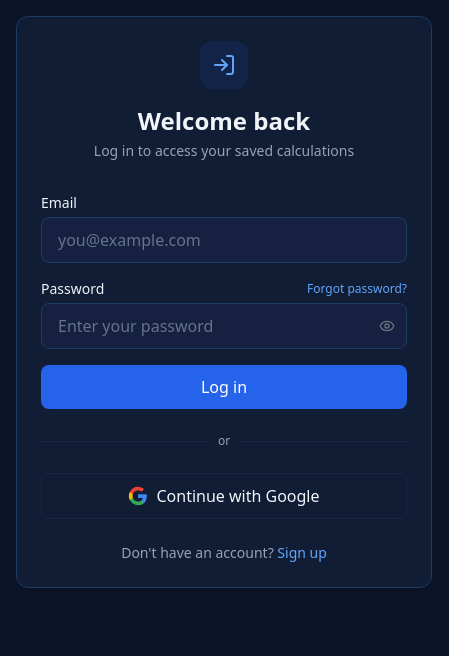
Test case: LoginPage - submission state machine › falls back to the generic login-failed message when the rejection is not an Error
This screenshot has width=449, height=656.
In the field labelled "Email": [224, 240] box x1=41 y1=217 x2=407 y2=263, type "maria@example.com"
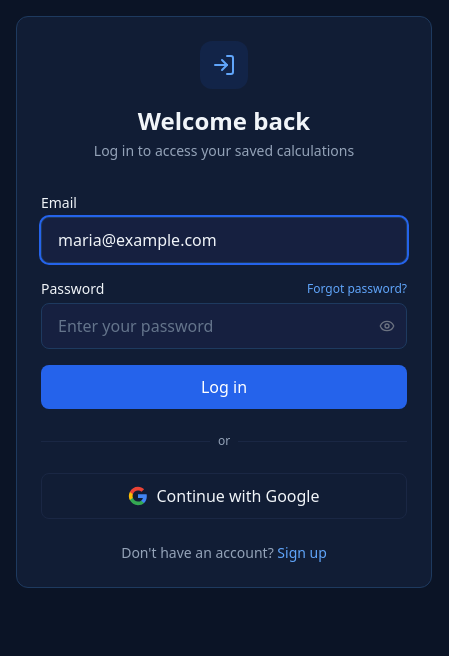
In the password field labelled "Password": [224, 326] box x1=41 y1=303 x2=407 y2=349, type "badpass"
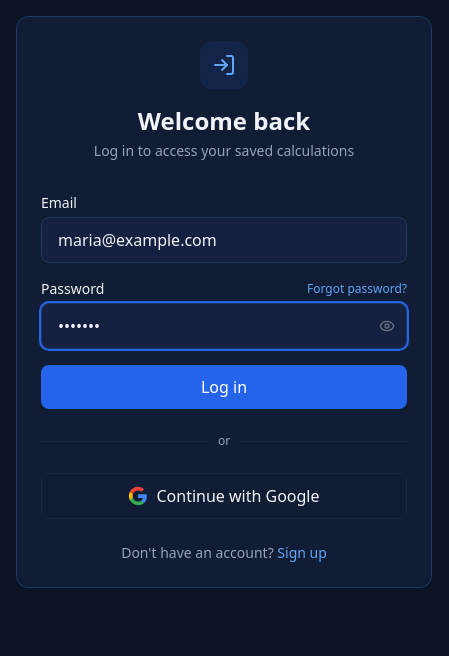
Click the button "Log in": [224, 387] box x1=41 y1=365 x2=407 y2=409
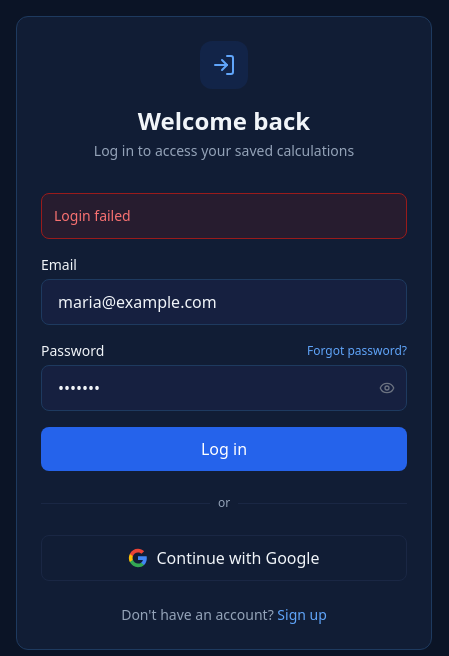
Check: the message reads "Login failed", box x1=54 y1=206 x2=131 y2=225
